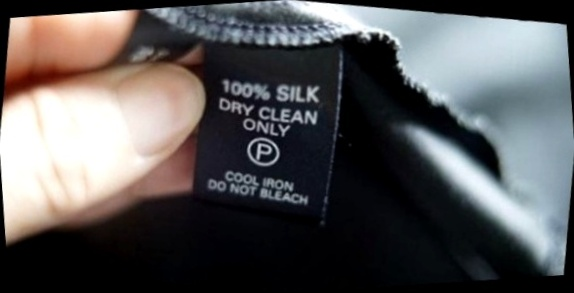dry_clean_any_solvent_except_trichloroethylene: (244, 132, 285, 171)
